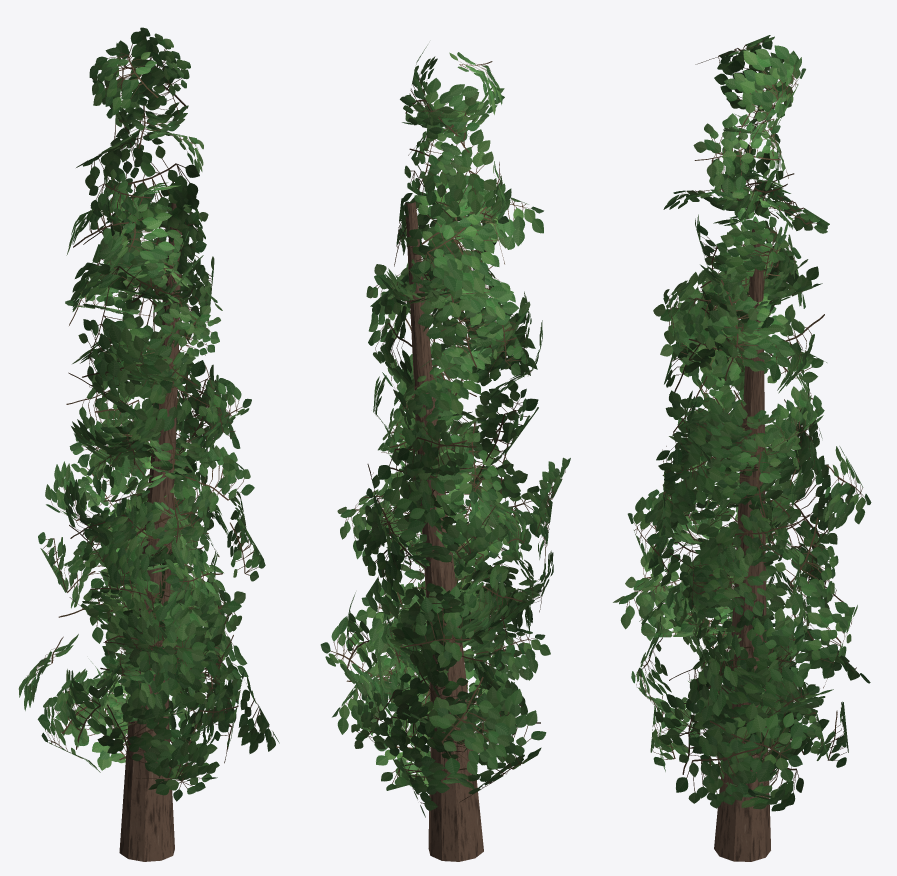
File: tree-columnar-small.gltf
3 views of the same model, side by side, from view 1: azimuth 30°, elevation 25°; view 2: azimuth 150°, elevation 25°; view 3: azimuth 270°, elevation 25° (orthographic).
Visible parts, largest first — view 1: tree_columnar_small; view 2: tree_columnar_small; view 3: tree_columnar_small.
Part boxes in pixels (box(x1,y1,x2,y2)): tree_columnar_small: box(18, 27, 279, 861); tree_columnar_small: box(320, 45, 570, 861); tree_columnar_small: box(613, 35, 871, 861).
Bounding box in the file's own units: 1.69 × 6.21 × 1.87.
3 materials, 3 textured.
